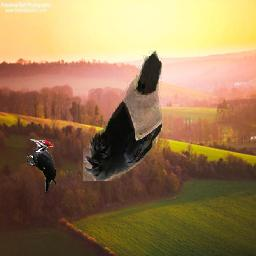Crow: (84, 51, 163, 182)
Woodpecker: (28, 139, 57, 194)
